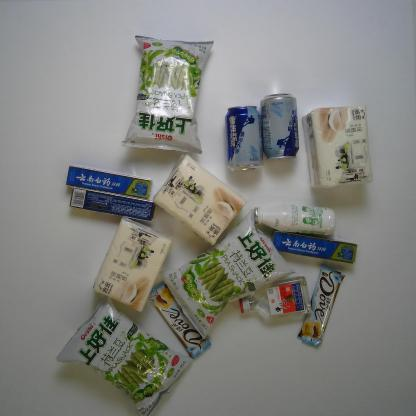Alcohol: (239, 276, 312, 322), (259, 92, 300, 160), (223, 105, 262, 173)
Chocolate: (151, 282, 212, 358), (296, 264, 347, 346)
Milk: (254, 204, 336, 237)
Personal Hygiene: (64, 164, 154, 200), (269, 229, 358, 265), (68, 186, 157, 222)
Puffed Food: (163, 210, 294, 340), (55, 297, 195, 415), (120, 34, 214, 153)
Tissue: (153, 152, 247, 247), (93, 217, 174, 314), (300, 106, 374, 190)
